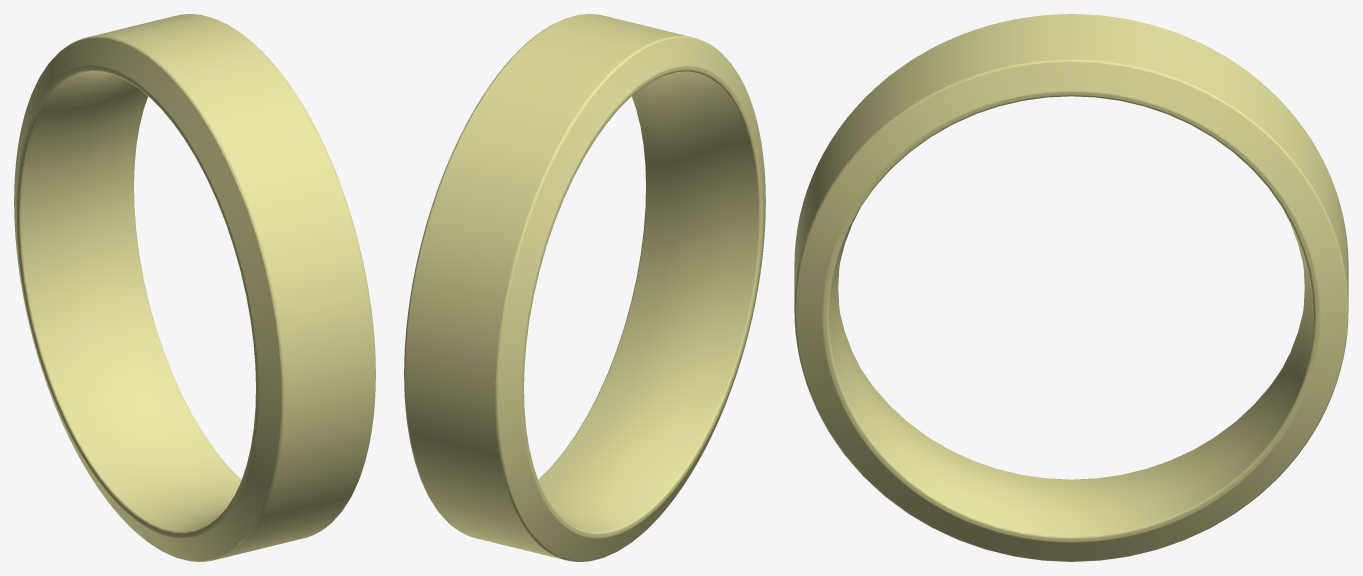
The model's file is ring_01.glb.
3 views of the same model, side by side, from view 1: azimuth 30°, elevation 25°; view 2: azimuth 150°, elevation 25°; view 3: azimuth 270°, elevation 25° (orthographic). The views are drawn at different scales.
Visible parts, largest first — view 1: Inner, Outer, Left, Right; view 2: Inner, Outer, Left, Right; view 3: Right, Inner, Outer.
Boxes of the visible parts, bbox=[...] form: Inner: bbox=[21, 71, 241, 531]; Outer: bbox=[89, 14, 374, 559]; Left: bbox=[14, 36, 284, 561]; Right: bbox=[133, 14, 375, 525]; Inner: bbox=[538, 71, 758, 531]; Outer: bbox=[405, 14, 690, 559]; Left: bbox=[495, 36, 765, 561]; Right: bbox=[404, 14, 646, 525]; Right: bbox=[794, 59, 1348, 561]; Inner: bbox=[829, 209, 1313, 535]; Outer: bbox=[794, 14, 1348, 305].
Size of what is drawn, in the model's own units: 0.5 by 2.02 by 2.02.
